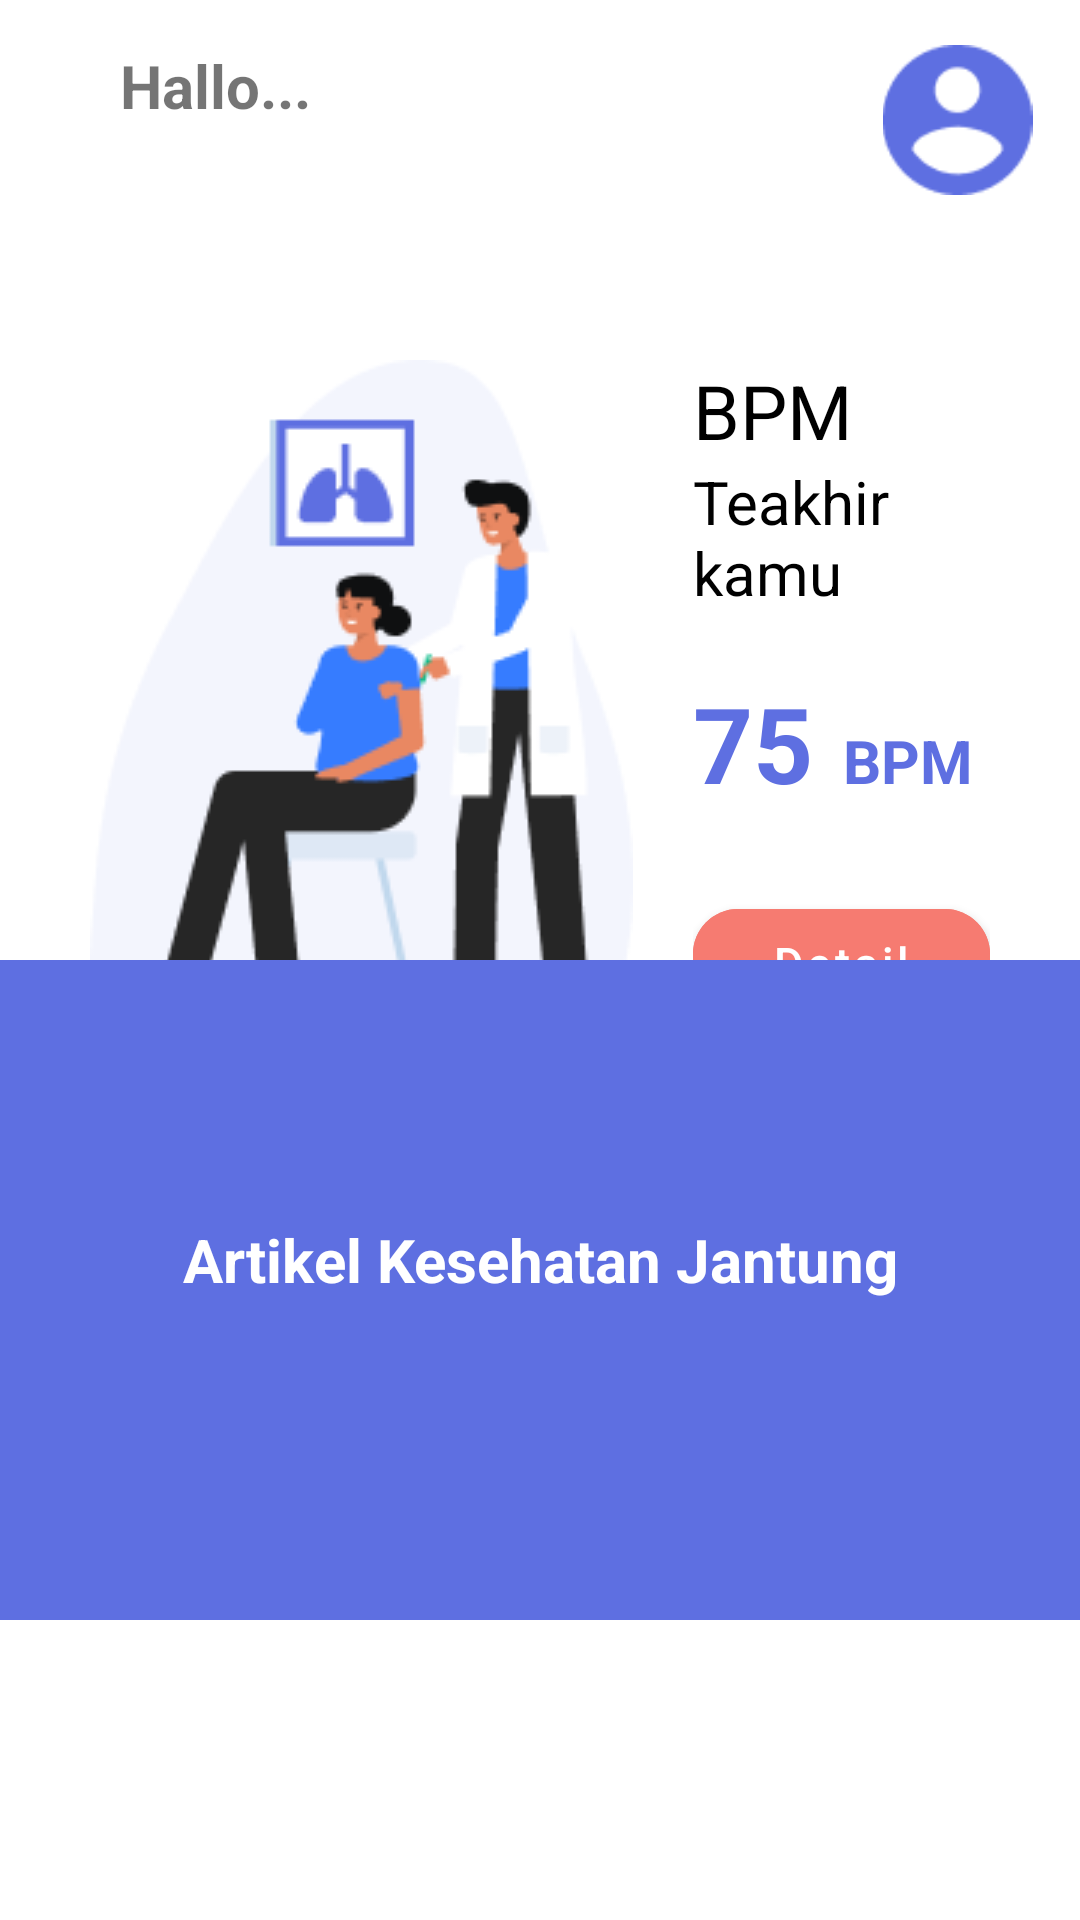

Named icons in this screenshot (1080w x 1920h) and their bounding boxes, bbox=(x1, y1, x2, y2):
profile: bbox=(883, 45, 1033, 195)
